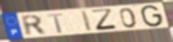0: (119, 7, 138, 29)
G: (140, 5, 165, 28)
I: (80, 10, 94, 33)
R: (20, 14, 49, 37)
T: (46, 12, 65, 34)
Z: (90, 8, 120, 32)
